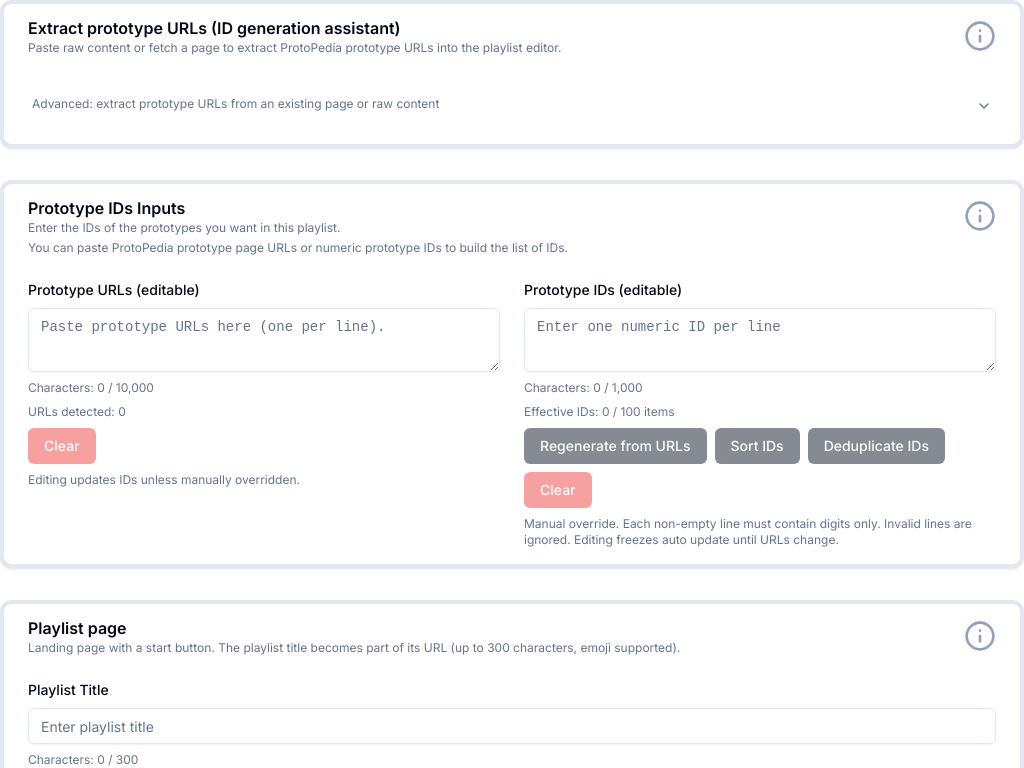
Work flow: clear + validation › clears URLs error when Clear URLs is clicked
Type "invalid-url" into the text box labelled "Prototype URLs (editable)" at (264, 340), box [28,308,500,372]
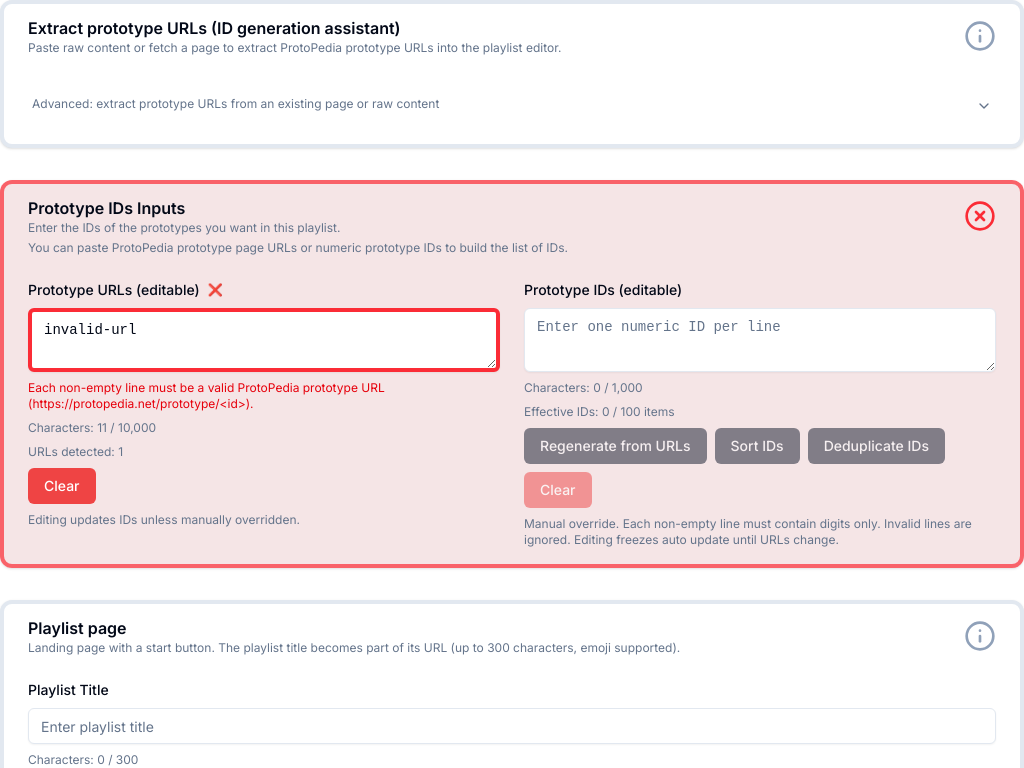
Expected: the text with test id "urls-indicator" reads "❌", [208,282,223,297]
Click the button with aria-label "Clear URLs" at (62, 486), box [28,468,96,504]
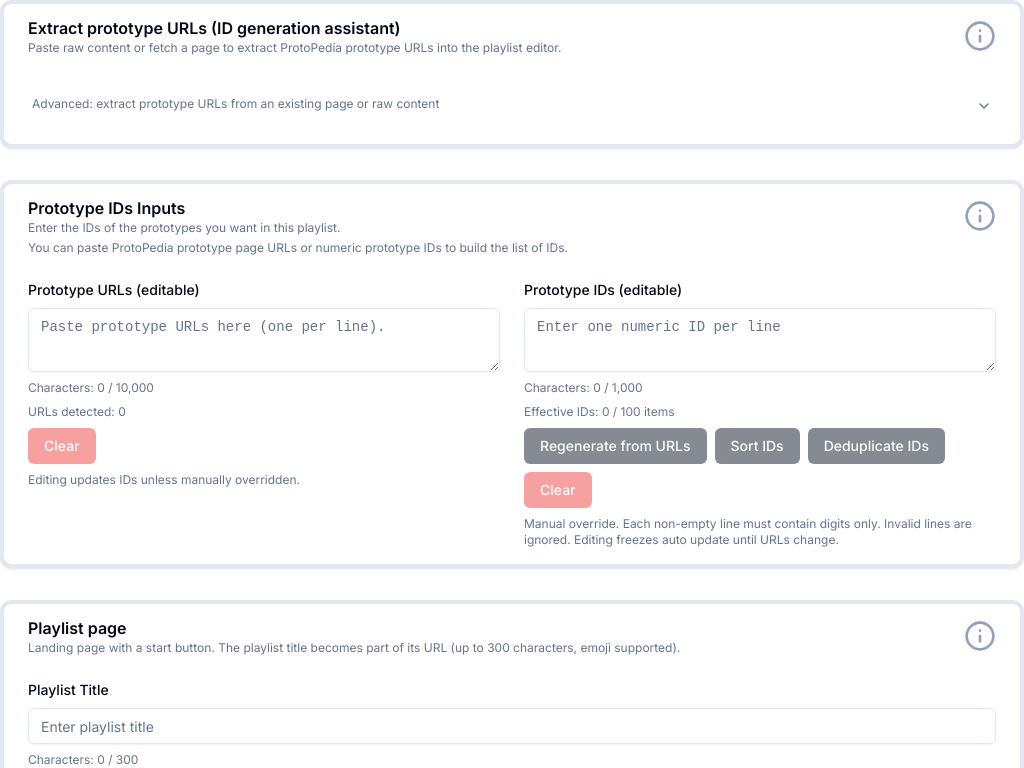
Expected: the text box labelled "Prototype URLs (editable)" is empty, [28,308,500,372]
